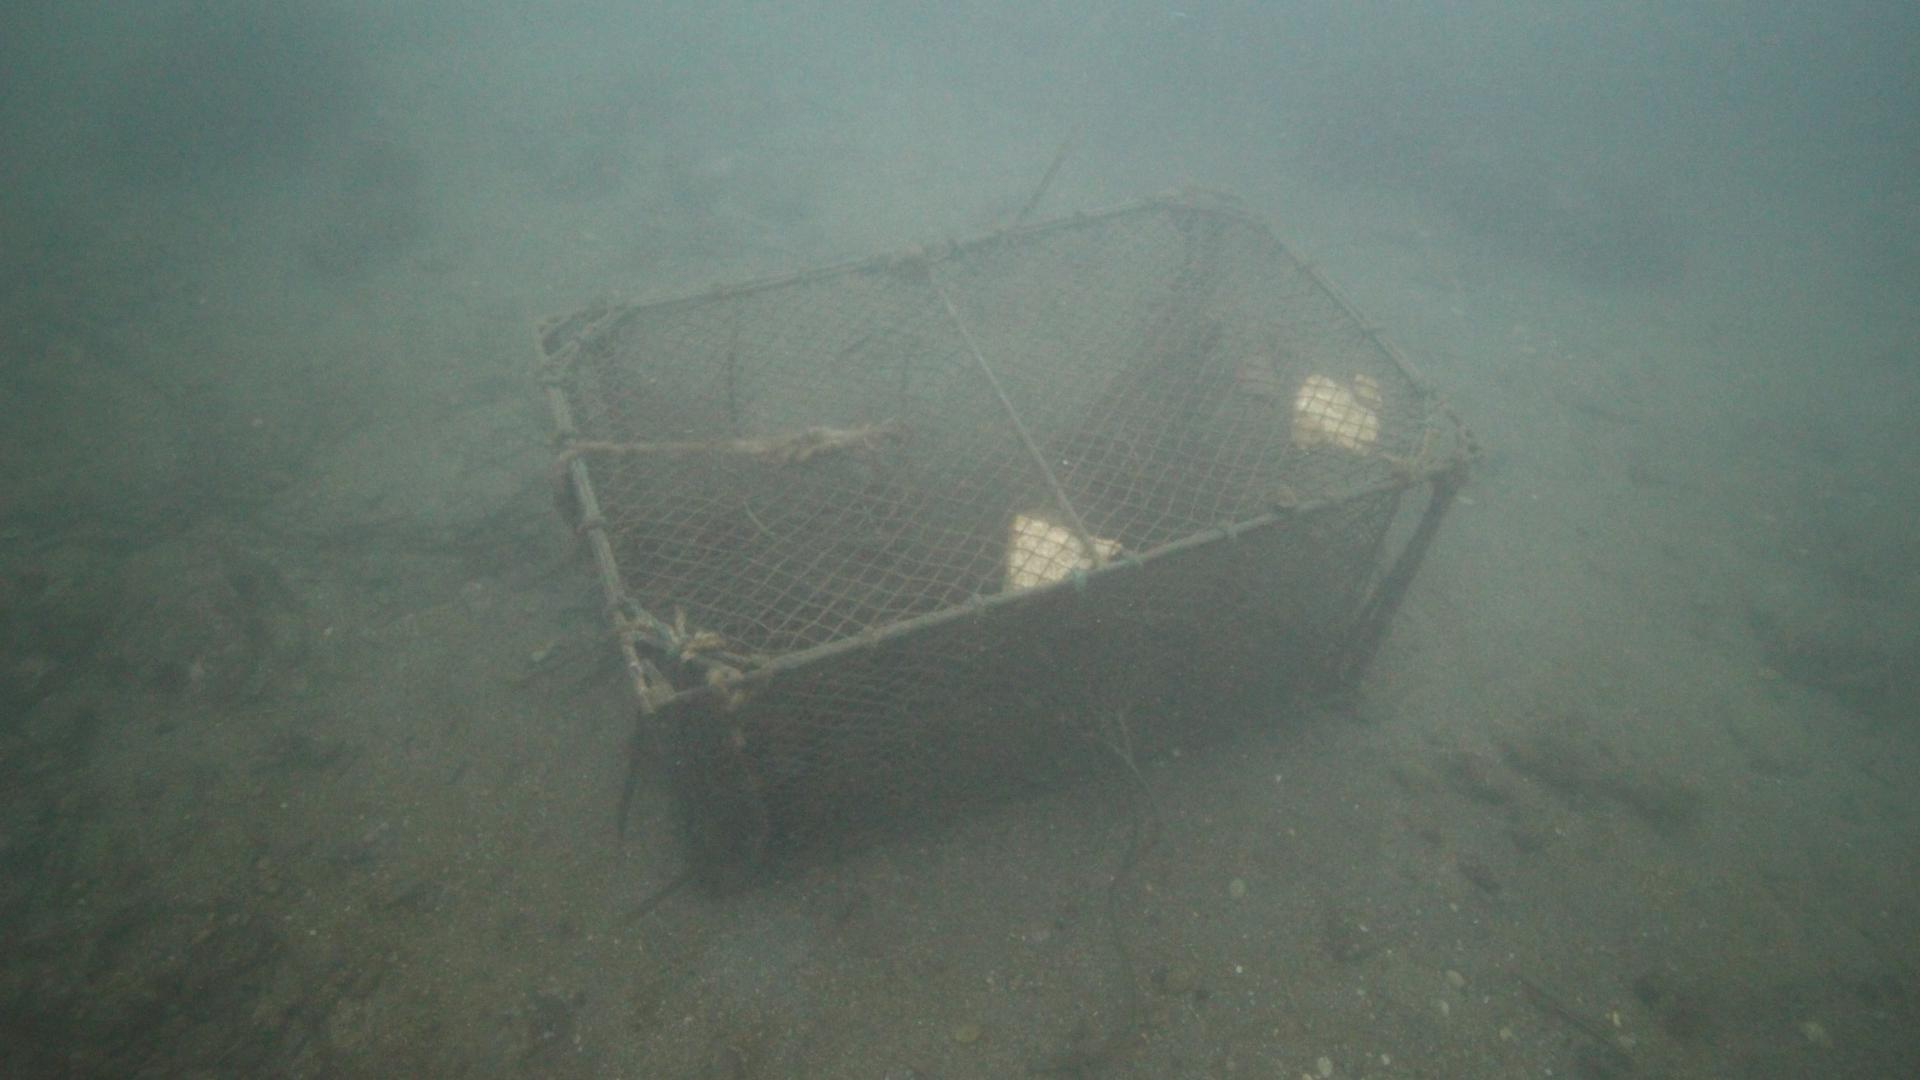rectangular fish trap: (524, 177, 1489, 894)
